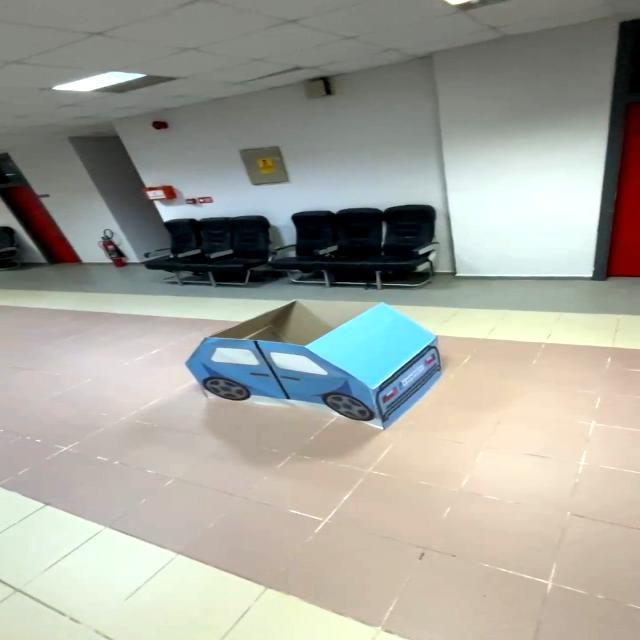blue_car: (146, 290, 469, 445)
